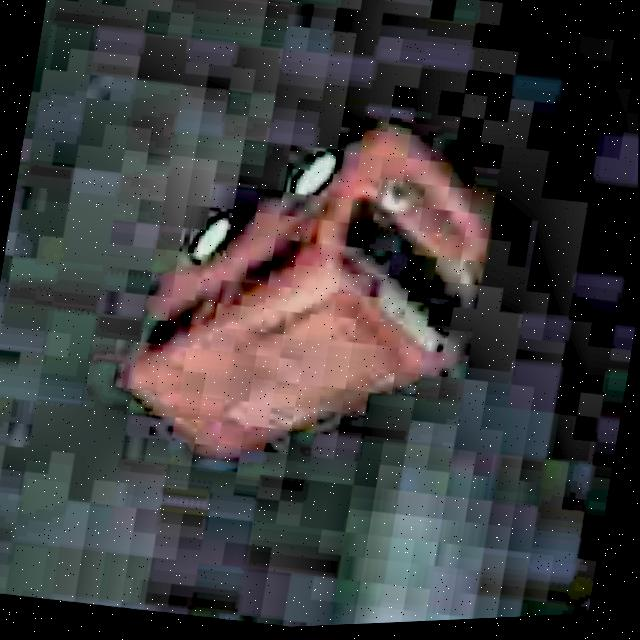bus: (101, 72, 519, 518)
